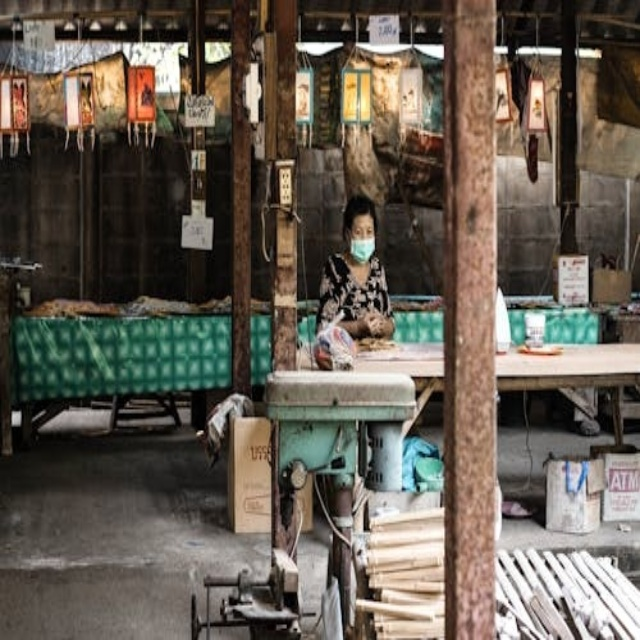Mascara: (349, 236, 376, 263)
Sin_gafas: (349, 228, 376, 240)
Sin_guantes: (364, 313, 393, 339)
